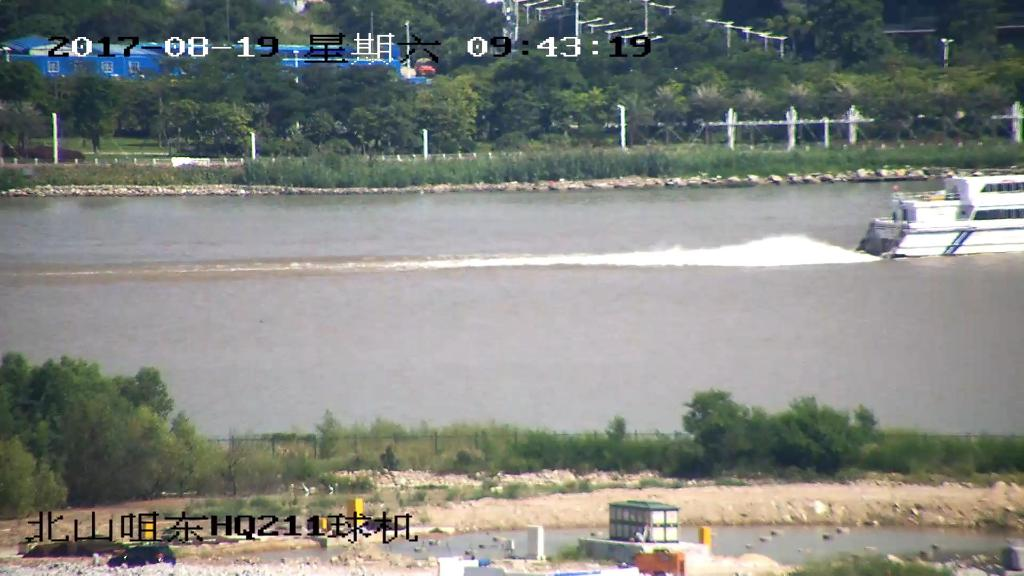PassengerShip: (852, 149, 1024, 267)
